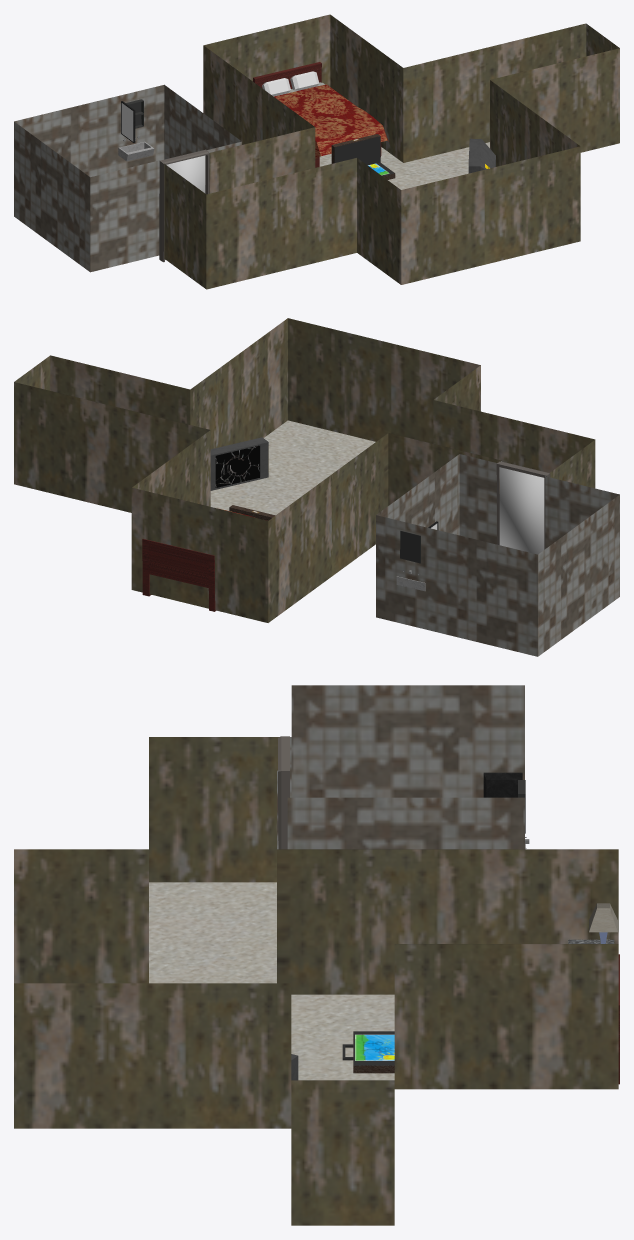
Rendered from Room Geometry Puzzle Room 2.fbx.
3 views of the same model, one above another, from view 1: azimuth 30°, elevation 25°; view 2: azimuth 150°, elevation 25°; view 3: azimuth 270°, elevation 25° (orthographic). The views are drawn at different scales.
Parts seen in each view (by area): view 1: Cube, Cube.009, Cube.016, Cube.001, Cube.002, Cube.007, Cube.004, Cube.003; view 2: Cube, Cube.002, Cube.009, Cube.007, Cube.001, Cube.005; view 3: Cube, Cube.001, Plane, Cube.003, Cube.013, Cube.012.
Part boxes in pixels (x1=…): Cube: x1=14, y1=14, x2=619, y2=289; Cube.009: x1=253, y1=62, x2=388, y2=167; Cube.016: x1=331, y1=134, x2=380, y2=165; Cube.001: x1=159, y1=149, x2=209, y2=262; Cube.002: x1=165, y1=155, x2=205, y2=259; Cube.007: x1=468, y1=138, x2=495, y2=173; Cube.004: x1=118, y1=135, x2=154, y2=161; Cube.003: x1=121, y1=101, x2=135, y2=142; Cube: x1=14, y1=318, x2=619, y2=656; Cube.002: x1=499, y1=467, x2=544, y2=554; Cube.009: x1=142, y1=509, x2=254, y2=611; Cube.007: x1=210, y1=437, x2=268, y2=490; Cube.001: x1=496, y1=461, x2=550, y2=549; Cube.005: x1=400, y1=530, x2=420, y2=563; Cube: x1=14, y1=685, x2=618, y2=1225; Cube.001: x1=278, y1=736, x2=289, y2=849; Plane: x1=355, y1=1034, x2=394, y2=1060; Cube.003: x1=483, y1=772, x2=522, y2=797; Cube.013: x1=353, y1=1031, x2=394, y2=1073; Cube.012: x1=589, y1=903, x2=617, y2=932.
Bounding box in the file's own units: 4162 × 743 × 2698.
